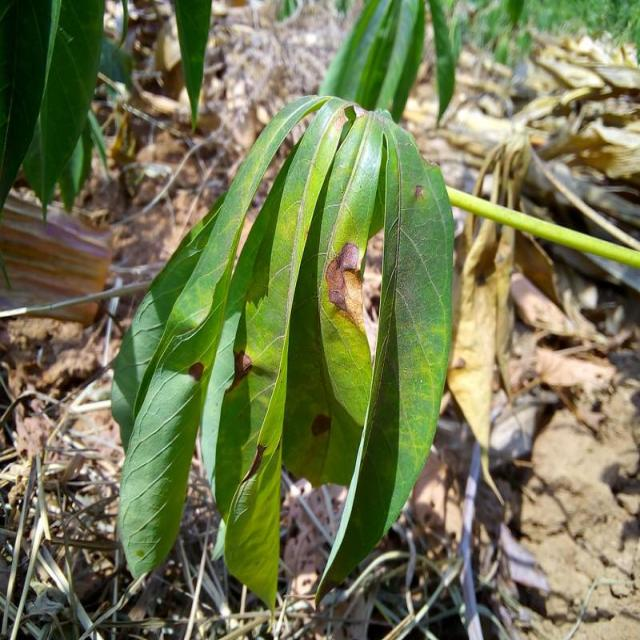cassava leaf: (111, 93, 457, 614)
